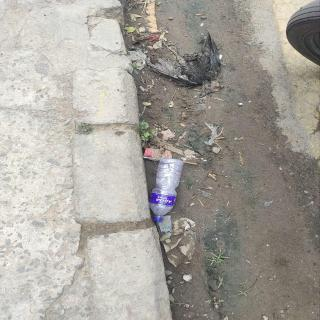Plastic-bottle: (148, 157, 188, 225)
